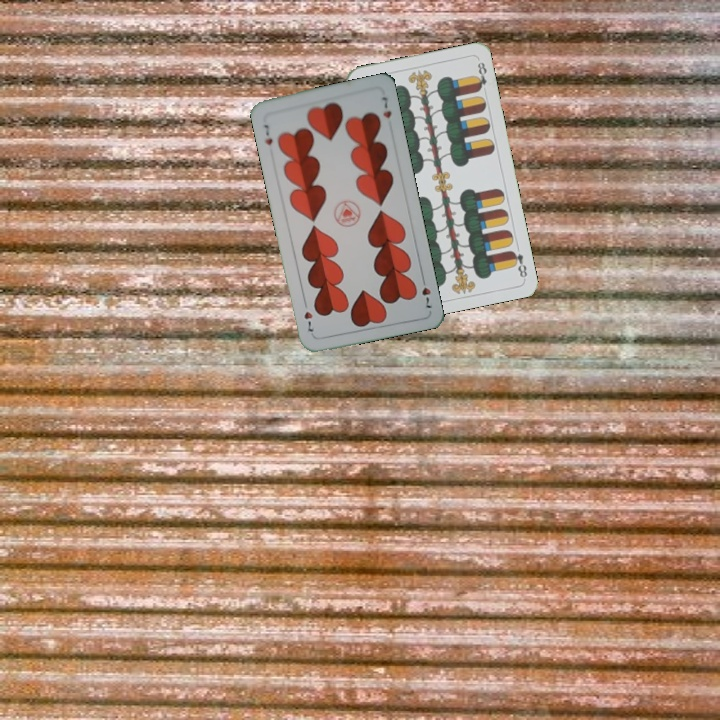E8: (507, 247, 530, 280)
H7: (418, 272, 434, 311), (260, 120, 275, 147)
